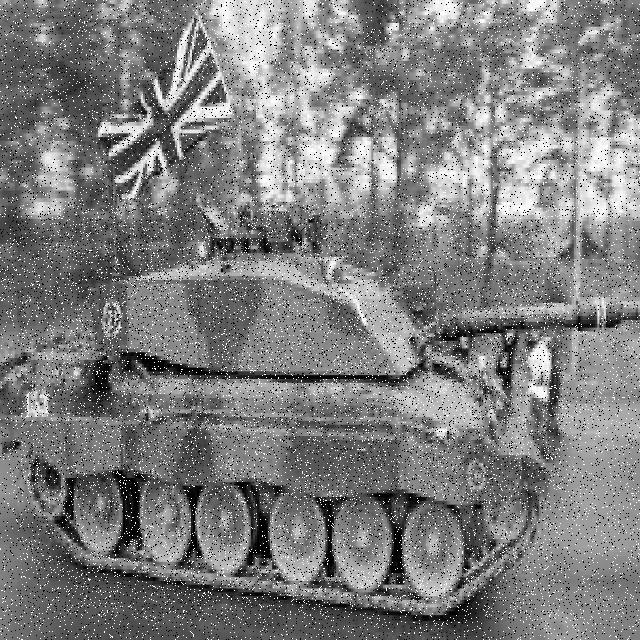MIL_MBT: (21, 205, 564, 619)
